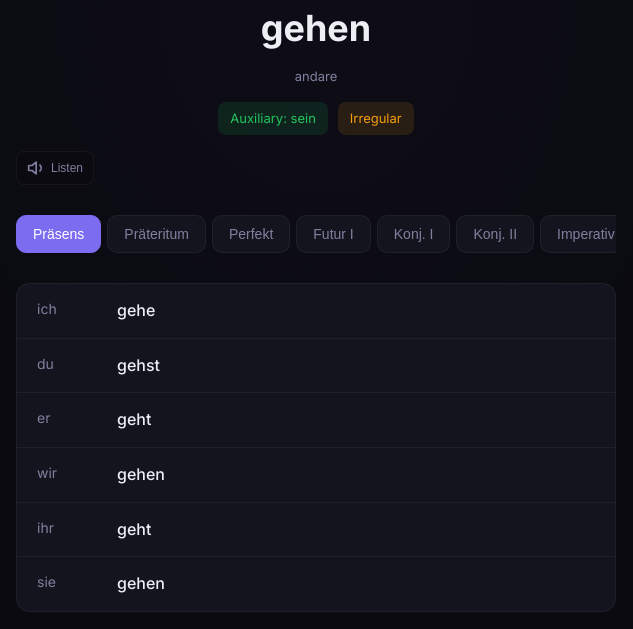
VerbsPage › Verb Detail View › switches tense on tab click
The image size is (633, 629).
Click the button "Präteritum".
click(157, 234)  # box [107,215,206,253]
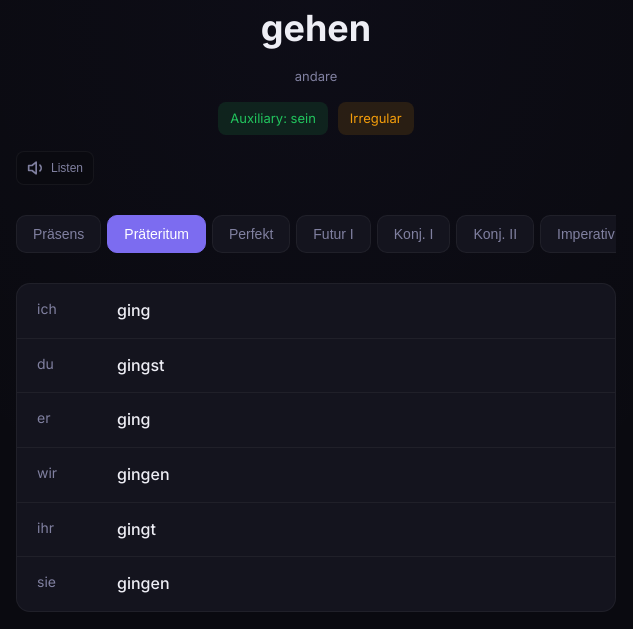
Result: the text "gingst" is shown at [117,353,164,378]
